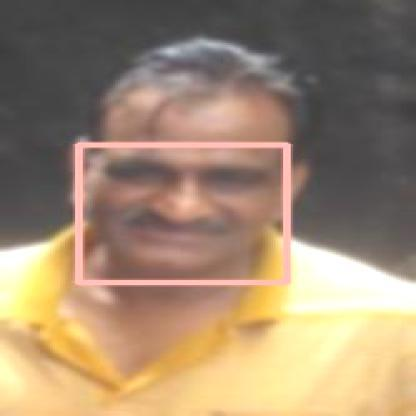without_mask: (78, 144, 286, 282)
